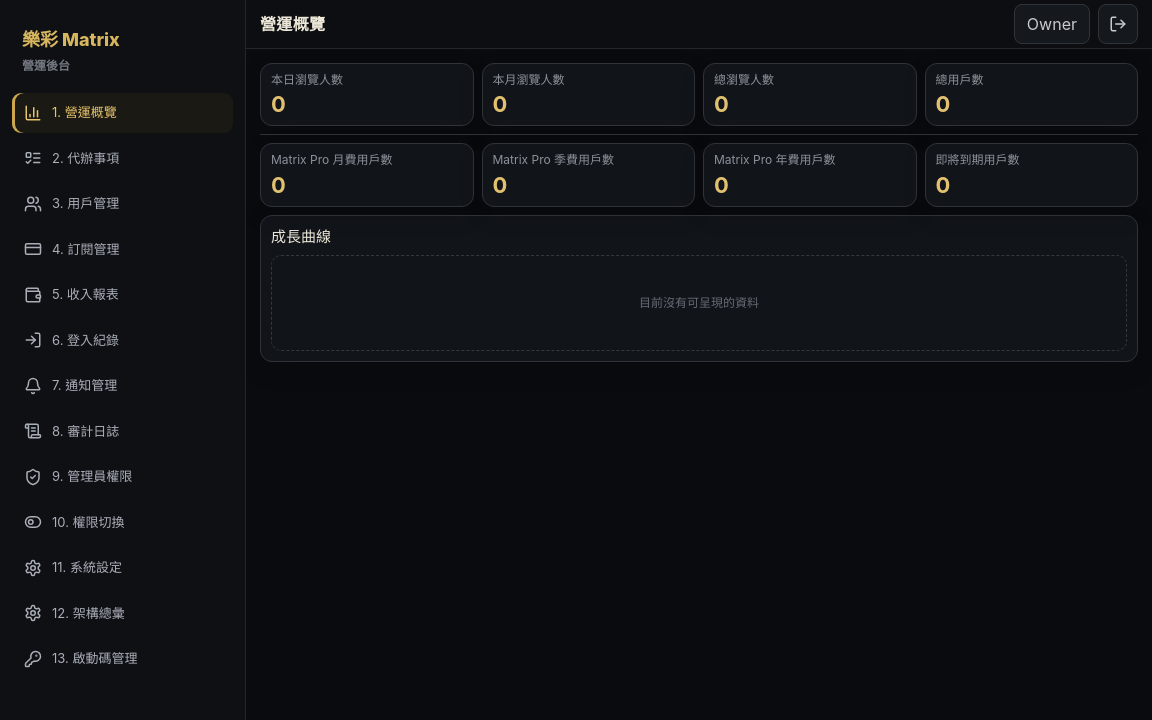
Test: AdminApp weak-network bootstrap › rejects missing-metadata plan pages instead of treating a partial options list as complete
Step 1. Click the button "4. 訂閱管理" → point(122, 249), box [12, 230, 233, 269]
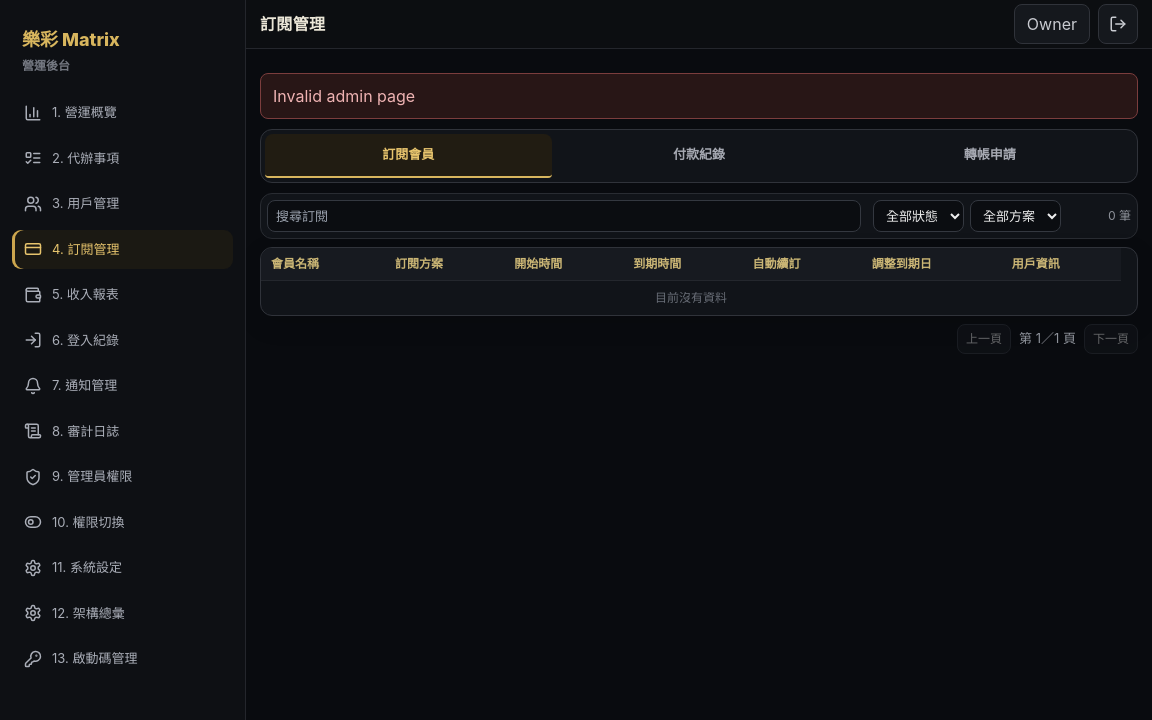
Check: the text "Invalid admin page" is shown, box [260, 73, 1138, 119]
